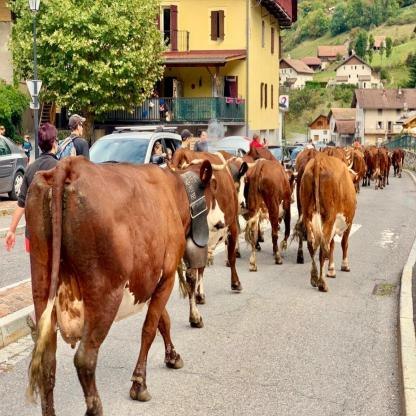cow: (26, 157, 225, 416), (173, 149, 241, 290), (300, 154, 356, 292), (245, 159, 292, 272)
